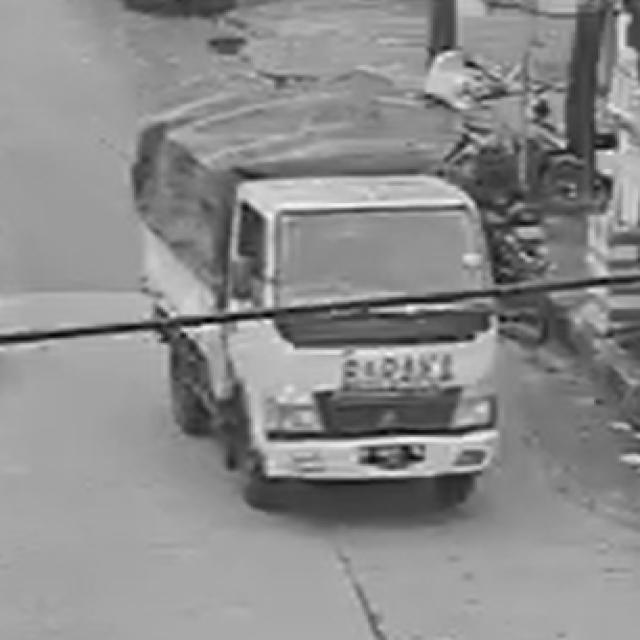Truck: (124, 88, 521, 528)
